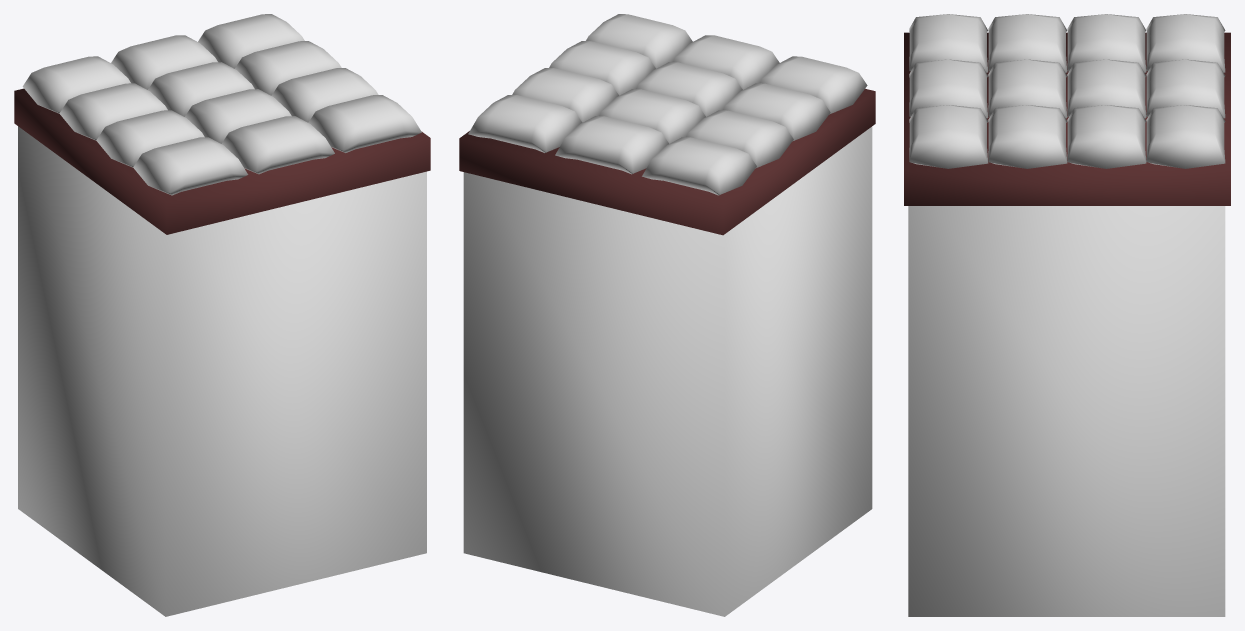
Rendered from culuster_flour.fbx.
The picture shows the model from 3 angles, left to right: view 1: azimuth 30°, elevation 25°; view 2: azimuth 150°, elevation 25°; view 3: azimuth 270°, elevation 25°; orthographic projection. The views are drawn at different scales.
Visible parts, largest first — view 1: flourAnaCuluster, alt.001, sack.012, sack.008, sack.004, sack.010, sack.011, sack.009, sack.006, sack.007, sack.005, sack.001 (+2 smaller); view 2: flourAnaCuluster, alt.001, sack.009, sack.005, sack.001, sack.012, sack.010, sack.011, sack.008, sack.006, sack.007, sack.003 (+2 smaller); view 3: flourAnaCuluster, alt.001, sack.001, sack.002, sack.003, sack.004, sack.005, sack.009, sack.010, sack.006, sack.007, sack.008 (+2 smaller).
Part boxes in pixels (x1,y1,x2,y2): flourAnaCuluster: [18, 126, 426, 616]; alt.001: [14, 88, 430, 234]; sack.012: [133, 137, 248, 195]; sack.008: [221, 116, 334, 174]; sack.004: [308, 95, 421, 152]; sack.010: [59, 83, 167, 140]; sack.011: [96, 110, 204, 167]; sack.009: [22, 56, 130, 113]; sack.006: [148, 62, 254, 116]; sack.007: [185, 89, 291, 143]; sack.005: [111, 35, 217, 89]; sack.001: [198, 14, 304, 68]; flourAnaCuluster: [463, 126, 872, 616]; alt.001: [459, 88, 875, 235]; sack.009: [642, 137, 756, 195]; sack.005: [555, 116, 668, 174]; sack.001: [468, 95, 582, 152]; sack.012: [760, 56, 867, 114]; sack.010: [686, 110, 793, 168]; sack.011: [723, 83, 830, 141]; sack.008: [673, 35, 779, 89]; sack.006: [599, 89, 705, 143]; sack.007: [636, 62, 742, 116]; sack.003: [549, 41, 655, 95]; flourAnaCuluster: [908, 206, 1225, 616]; alt.001: [904, 32, 1230, 205]; sack.001: [1146, 105, 1225, 168]; sack.002: [1067, 105, 1146, 168]; sack.003: [988, 105, 1067, 168]; sack.004: [909, 105, 988, 168]; sack.005: [1146, 59, 1225, 118]; sack.009: [1146, 14, 1225, 72]; sack.010: [1067, 14, 1146, 72]; sack.006: [1067, 59, 1146, 118]; sack.007: [988, 59, 1067, 118]; sack.008: [909, 59, 988, 118].
Size of the model in its own units: 200 by 322 by 200.
